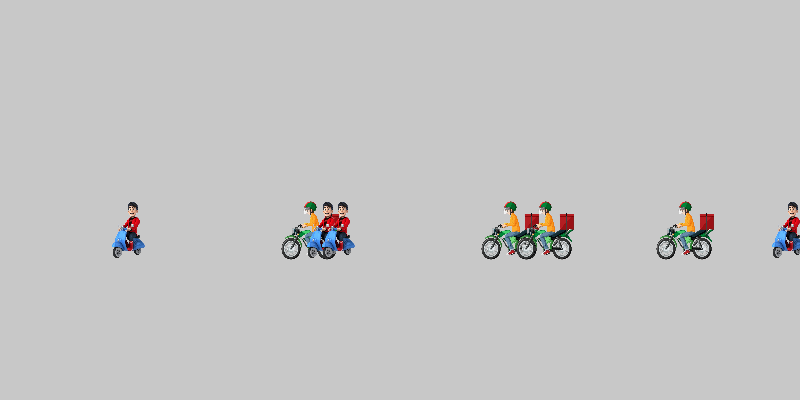helmet: (280, 200, 340, 260), (480, 200, 540, 260), (515, 200, 575, 260), (655, 200, 715, 260)
no_helmet: (100, 200, 160, 260), (295, 200, 355, 260), (310, 200, 370, 260), (760, 200, 800, 260)
